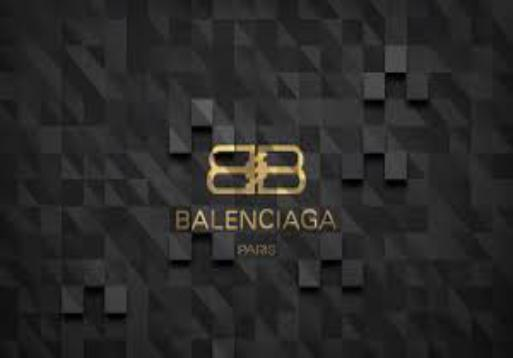BALENCIAGA: (201, 142, 309, 196), (172, 206, 335, 232)
